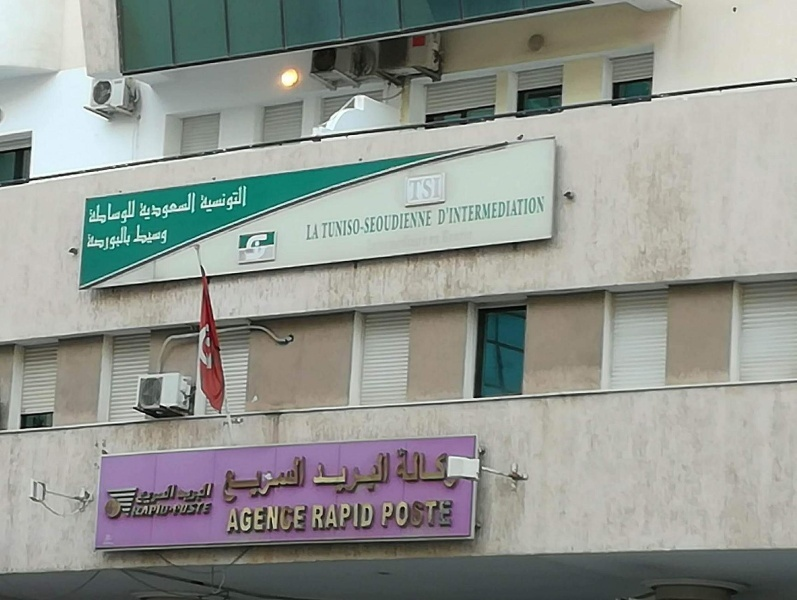text: (225, 454, 240, 504), (241, 454, 256, 504), (257, 454, 272, 504), (273, 454, 288, 504), (289, 454, 304, 504), (321, 451, 336, 495), (337, 451, 352, 495), (353, 451, 368, 495), (369, 451, 384, 495), (401, 447, 416, 490), (417, 447, 432, 490), (433, 447, 448, 490), (449, 447, 464, 490), (417, 210, 433, 241), (209, 183, 224, 215), (225, 183, 240, 215), (385, 499, 400, 531), (401, 499, 416, 531), (417, 499, 432, 531), (433, 499, 448, 531), (145, 191, 160, 222), (161, 191, 176, 222), (177, 191, 192, 222), (321, 210, 336, 241), (337, 210, 352, 241), (353, 210, 368, 241), (369, 210, 384, 241), (385, 210, 400, 241), (401, 210, 416, 241), (241, 503, 256, 534), (257, 503, 272, 534), (273, 503, 288, 534), (289, 503, 304, 534), (449, 196, 464, 226), (465, 196, 480, 226), (481, 196, 496, 226), (497, 196, 512, 226), (513, 196, 528, 226), (529, 196, 544, 226), (306, 210, 320, 241), (97, 224, 112, 252), (113, 224, 128, 252), (321, 503, 336, 531), (337, 503, 352, 531), (353, 503, 368, 531), (97, 199, 112, 225), (113, 199, 128, 225), (417, 176, 432, 201), (228, 503, 240, 534), (145, 223, 160, 246), (193, 482, 208, 504), (145, 483, 160, 505), (161, 483, 176, 505), (385, 451, 392, 495), (438, 196, 448, 226), (145, 501, 160, 519), (161, 501, 176, 519), (177, 501, 192, 519), (193, 501, 208, 519), (314, 451, 320, 495), (180, 482, 192, 504), (200, 183, 208, 215), (241, 183, 249, 215), (129, 199, 138, 225), (433, 176, 442, 201), (88, 224, 96, 252), (312, 503, 320, 531), (395, 447, 400, 490), (135, 223, 144, 246), (133, 501, 144, 519), (89, 199, 96, 225), (409, 176, 416, 201), (369, 503, 375, 531), (161, 223, 168, 246), (449, 499, 454, 531), (139, 191, 144, 222), (209, 482, 216, 504), (305, 454, 308, 504), (193, 191, 197, 222), (129, 224, 133, 252), (139, 483, 144, 505), (381, 499, 384, 531), (305, 503, 308, 534), (209, 501, 213, 519), (177, 483, 179, 505), (465, 447, 466, 490), (545, 196, 546, 226)
